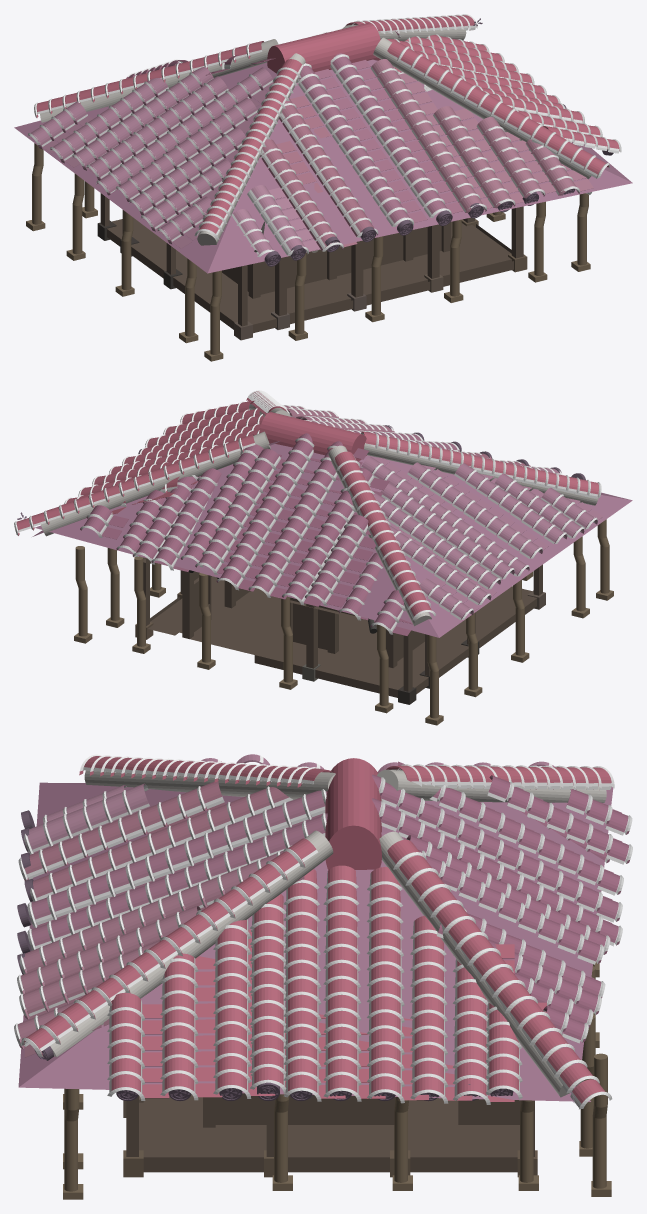
Rendered from okinawa_pre2.fbx.
3 views of the same model, one above another, from view 1: azimuth 30°, elevation 25°; view 2: azimuth 150°, elevation 25°; view 3: azimuth 270°, elevation 25° (orthographic). The views are drawn at different scales.
Parts seen in each view (by area): view 1: 平面.002, 平面.003, 円.016, 円.043, 円.083, 円.085, 円.044, 円.052, 円.048, 円.045, 円.053, 円柱.007 (+35 smaller); view 2: 平面.002, 平面.003, 円.062, 円.063, 円.057, 円.085, 円.001, 円.053, 円.082, 円.069, 円.064, 円.052 (+39 smaller); view 3: 平面.002, 平面.003, 円.016, 円.082, 円.080, 円.072, 円.073, 円.083, 円.076, 円.074, 円.084, 円.081 (+34 smaller).
Part boxes in pixels (<box>): 平面.002: <box>100,193,523,333</box>; 平面.003: <box>14,40,632,273</box>; 円.016: <box>297,53,463,226</box>; 円.043: <box>370,59,492,213</box>; 円.083: <box>387,40,609,178</box>; 円.085: <box>194,59,303,239</box>; 円.044: <box>279,95,378,237</box>; 円.052: <box>96,67,273,195</box>; 円.048: <box>433,106,524,208</box>; 円.045: <box>260,139,357,251</box>; 円.053: <box>115,98,257,202</box>; 円柱.007: <box>267,22,380,73</box>; 平面.002: <box>143,557,542,697</box>; 平面.003: <box>32,441,632,637</box>; 円.062: <box>216,433,323,591</box>; 円.063: <box>248,441,368,599</box>; 円.057: <box>335,451,435,620</box>; 円.085: <box>361,431,601,498</box>; 円.001: <box>195,448,293,574</box>; 円.053: <box>407,462,548,558</box>; 円.082: <box>14,434,255,535</box>; 円.069: <box>305,514,376,607</box>; 円.064: <box>282,467,389,606</box>; 円.052: <box>361,456,529,576</box>; 平面.002: <box>126,1093,534,1172</box>; 平面.003: <box>18,782,613,1101</box>; 円.016: <box>27,789,327,950</box>; 円.082: <box>387,839,612,1109</box>; 円.080: <box>367,867,428,1103</box>; 円.072: <box>323,865,385,1101</box>; 円.073: <box>283,869,345,1101</box>; 円.083: <box>21,838,317,1057</box>; 円.076: <box>160,953,222,1100</box>; 円.074: <box>213,919,275,1098</box>; 円.084: <box>250,894,286,1093</box>; 円.081: <box>410,915,472,1103</box>.
Bounding box in the file's own units: 2225 × 947 × 1771.
